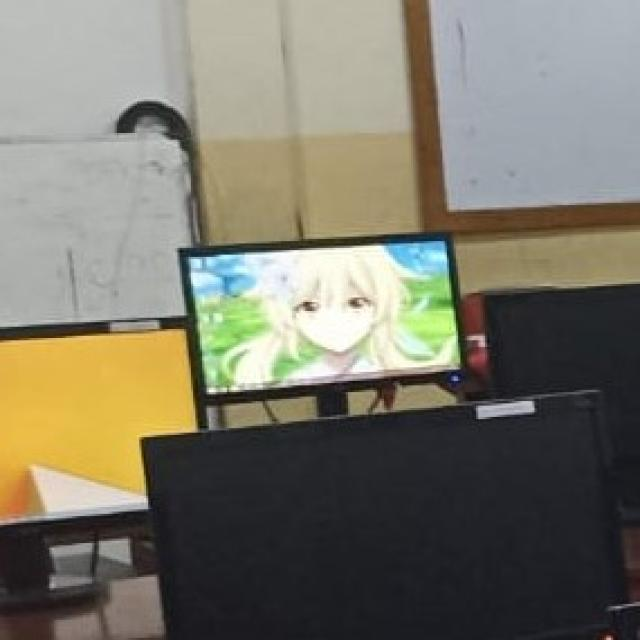offscreen: (142, 391, 612, 638), (487, 285, 640, 455)
onscreen: (183, 233, 462, 425)
